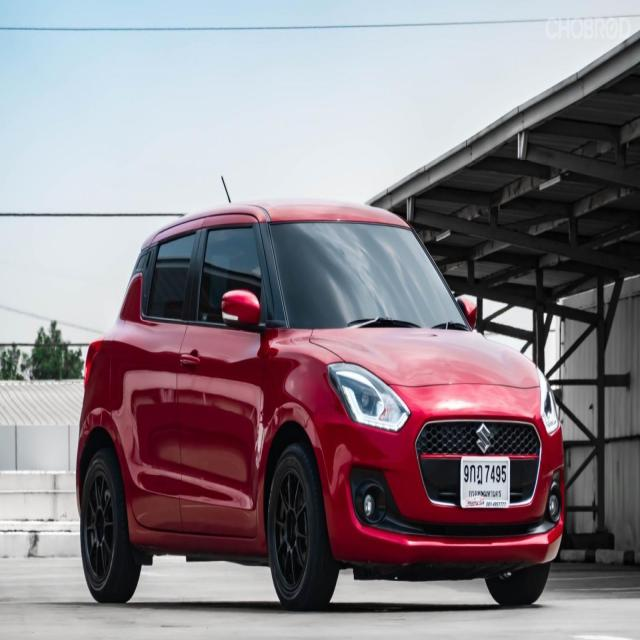license_plate: (458, 452, 512, 512)
